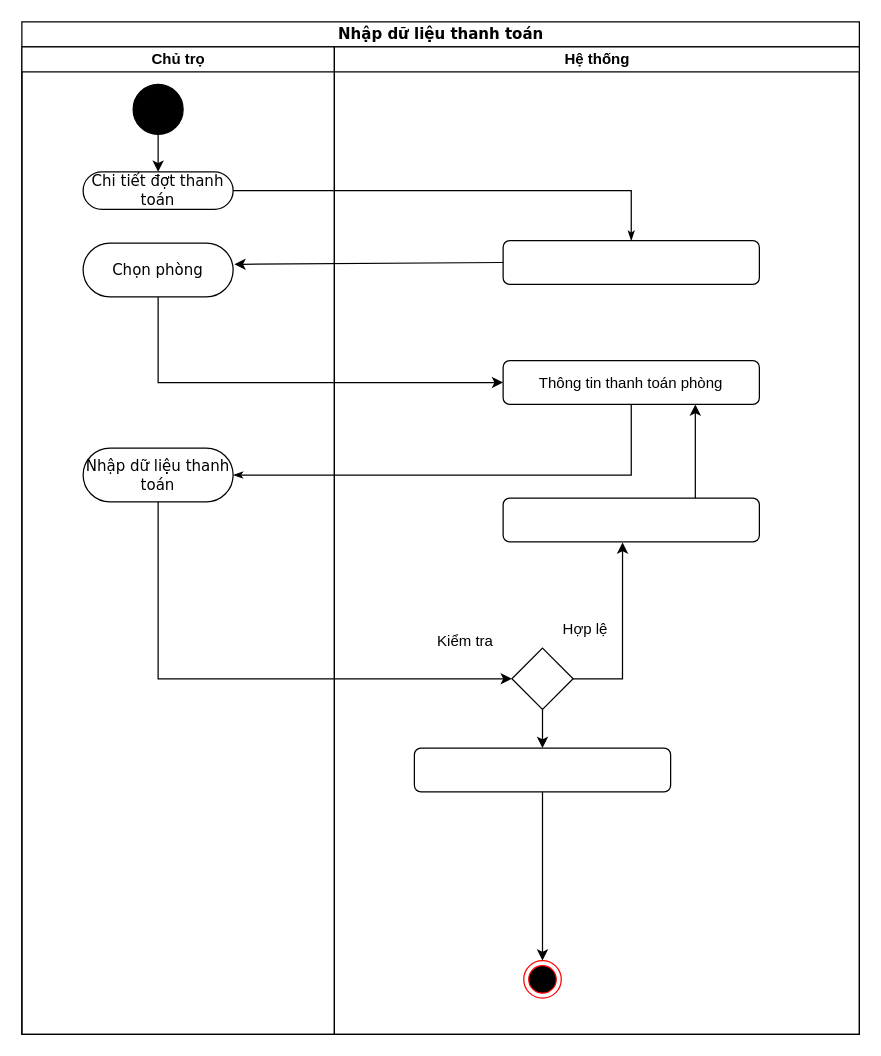
Image size: 881x1056. Some labels were removed from this diagram. Here are the shapes that lost their labels. From the top down, the centre of each, then its label:
At pixel 630 261: "Thông tin đợt thanh toán và danh sách phòng trong đợt thanh toán".
At pixel 630 519: "Thông báo lỗi".
At pixel 542 769: "Thông báo thành công".
